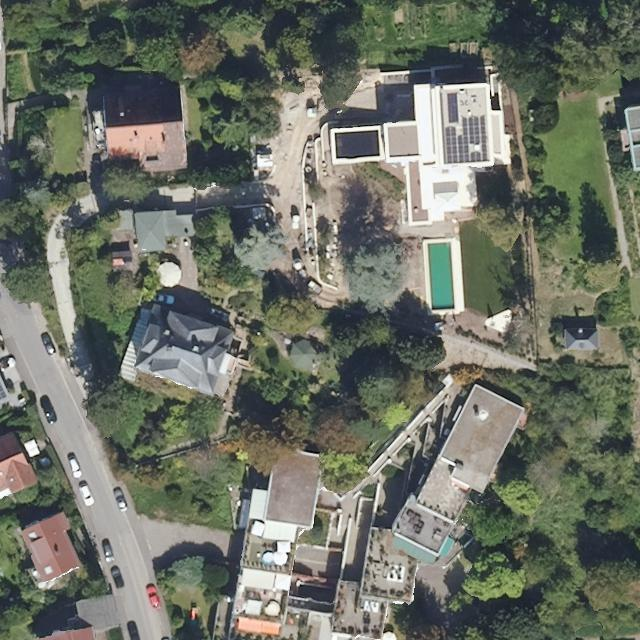PV: (444, 115, 488, 165)
